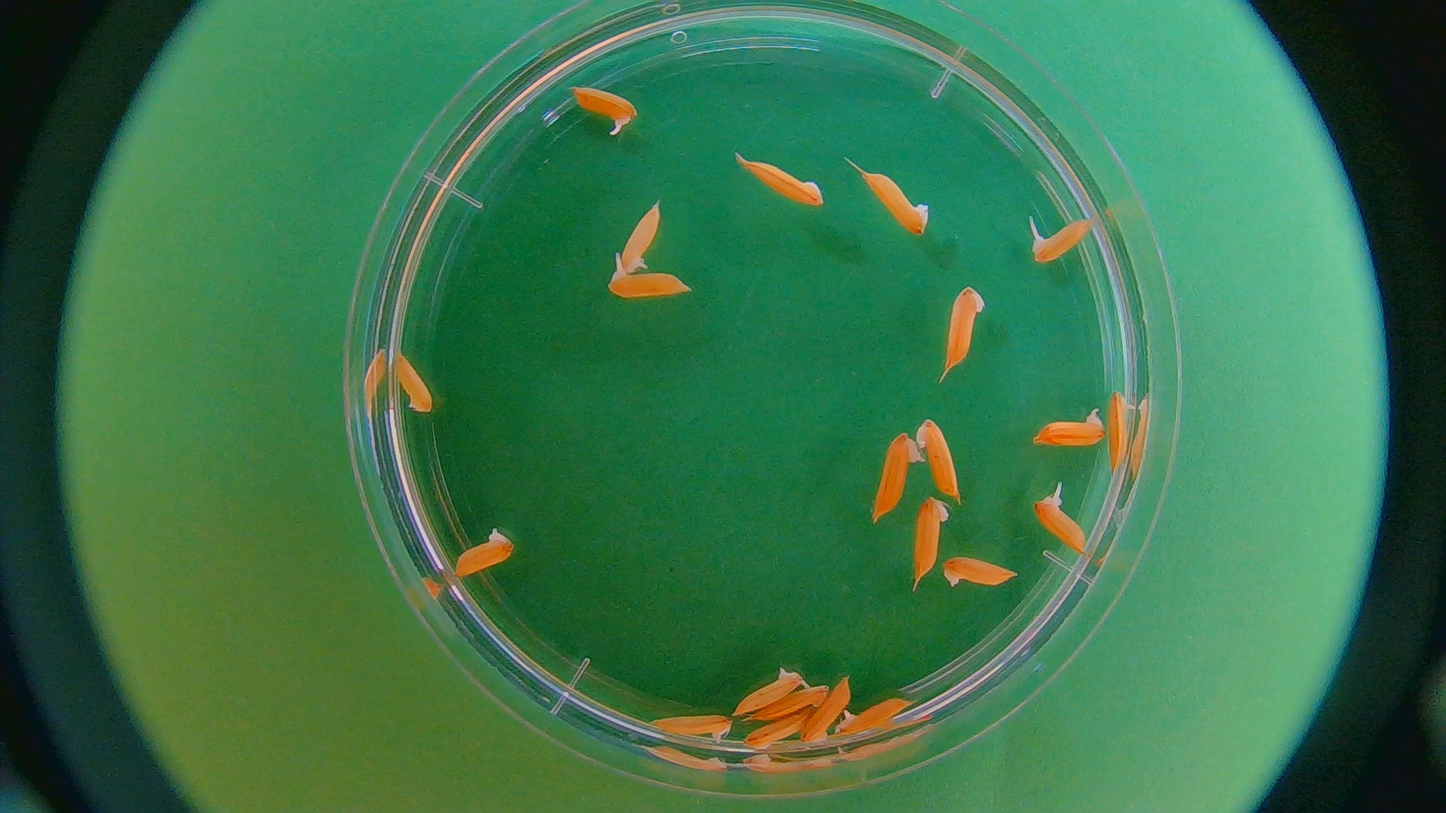no: (862, 422, 924, 522), (935, 279, 997, 378), (914, 410, 967, 502), (746, 157, 825, 214), (905, 492, 953, 585), (650, 700, 734, 749), (943, 551, 1021, 598), (868, 172, 928, 233), (838, 695, 906, 744), (390, 350, 438, 419), (738, 709, 809, 753), (732, 666, 799, 712), (1110, 384, 1142, 479), (456, 532, 515, 580), (806, 683, 853, 740), (754, 686, 822, 721)
yes: (1027, 210, 1097, 268), (1036, 496, 1090, 558), (1032, 414, 1108, 458), (616, 206, 662, 273), (572, 87, 641, 129), (608, 267, 692, 301)
